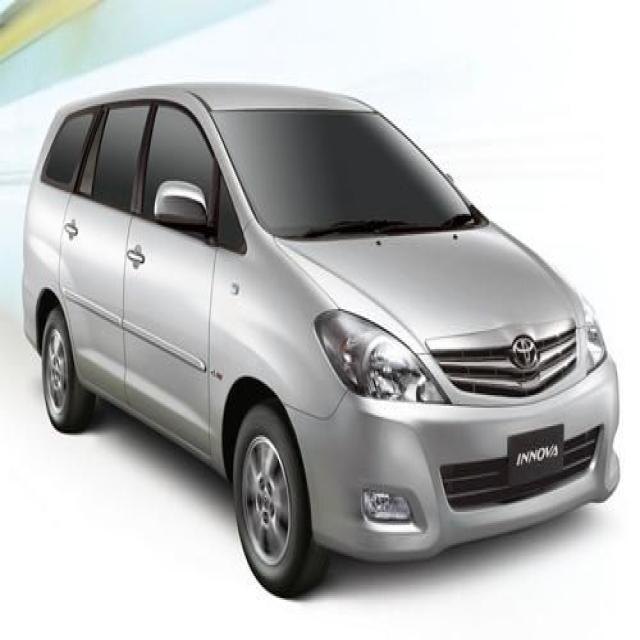light_vehicle: (20, 81, 621, 597)
